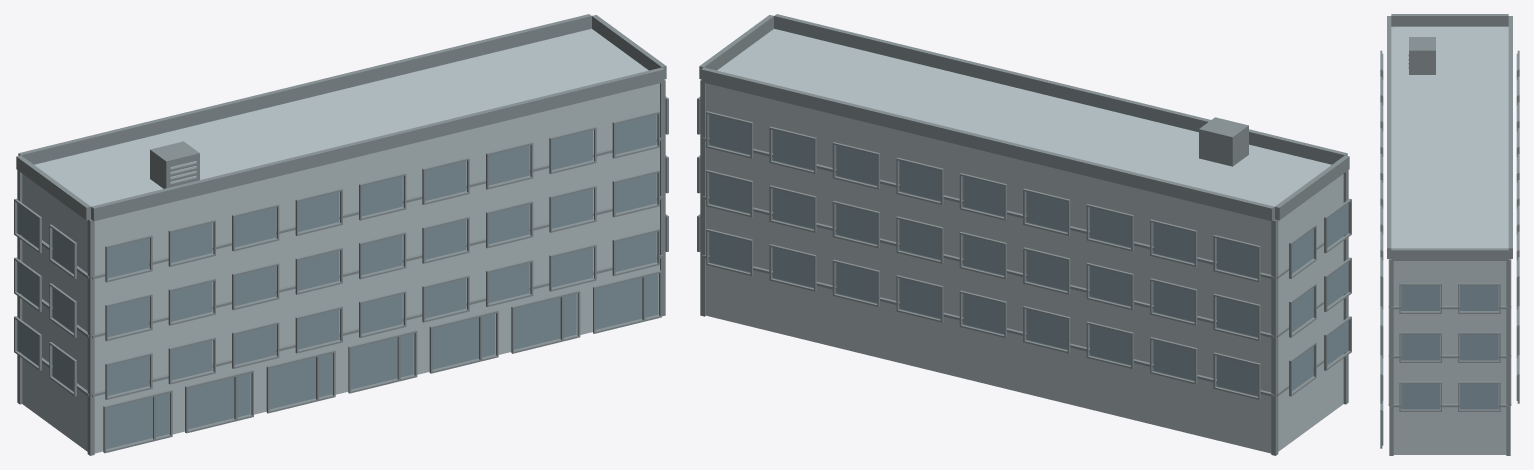
The model's file is lot_4x1_slab.glb.
3 views of the same model, side by side, from view 1: azimuth 30°, elevation 25°; view 2: azimuth 150°, elevation 25°; view 3: azimuth 270°, elevation 25° (orthographic). The views are drawn at different scales.
Parts seen in each view (by area): view 1: lot_4x1_slab; view 2: lot_4x1_slab; view 3: lot_4x1_slab.
Part boxes in pixels (<box>): lot_4x1_slab: <box>14,14,668,455</box>; lot_4x1_slab: <box>697,14,1351,455</box>; lot_4x1_slab: <box>1380,14,1519,455</box>.
Size of the model in its own units: 31.74 by 13.5 by 7.74.
